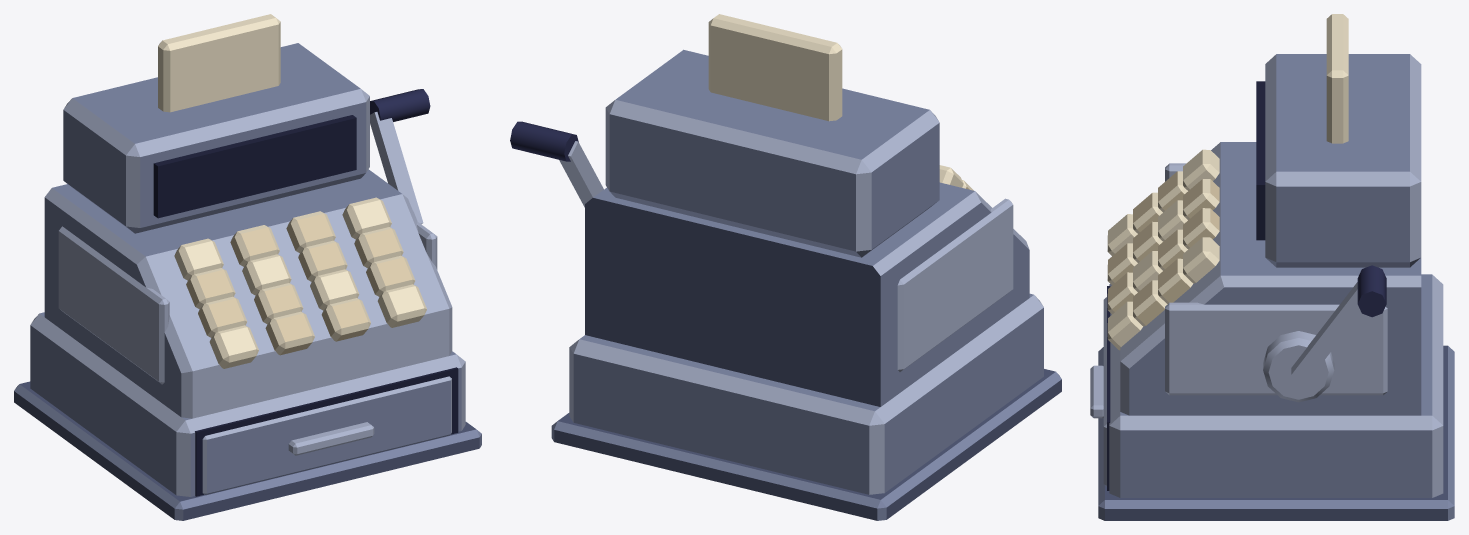
Rendered from CashRegister.fbx.
The picture shows the model from 3 angles, left to right: view 1: azimuth 30°, elevation 25°; view 2: azimuth 150°, elevation 25°; view 3: azimuth 270°, elevation 25°; orthographic projection. The views are drawn at different scales.
Visible parts, largest first — view 1: CashRegister, CashRegister_Drawer; view 2: CashRegister; view 3: CashRegister, CashRegister_Drawer.
Boxes of the visible parts, <box> form: CashRegister: <box>14,14,481,520</box>; CashRegister_Drawer: <box>202,376,451,494</box>; CashRegister: <box>510,14,1061,520</box>; CashRegister: <box>1098,14,1454,520</box>; CashRegister_Drawer: <box>1090,297,1106,486</box>.
Bounding box in the file's own units: 4.14 × 3.95 × 3.27.
1 material, 1 textured.
